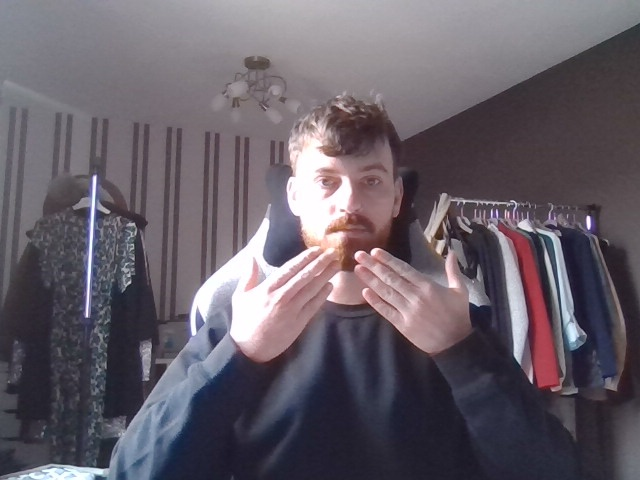Thanks: (228, 234, 479, 368)
